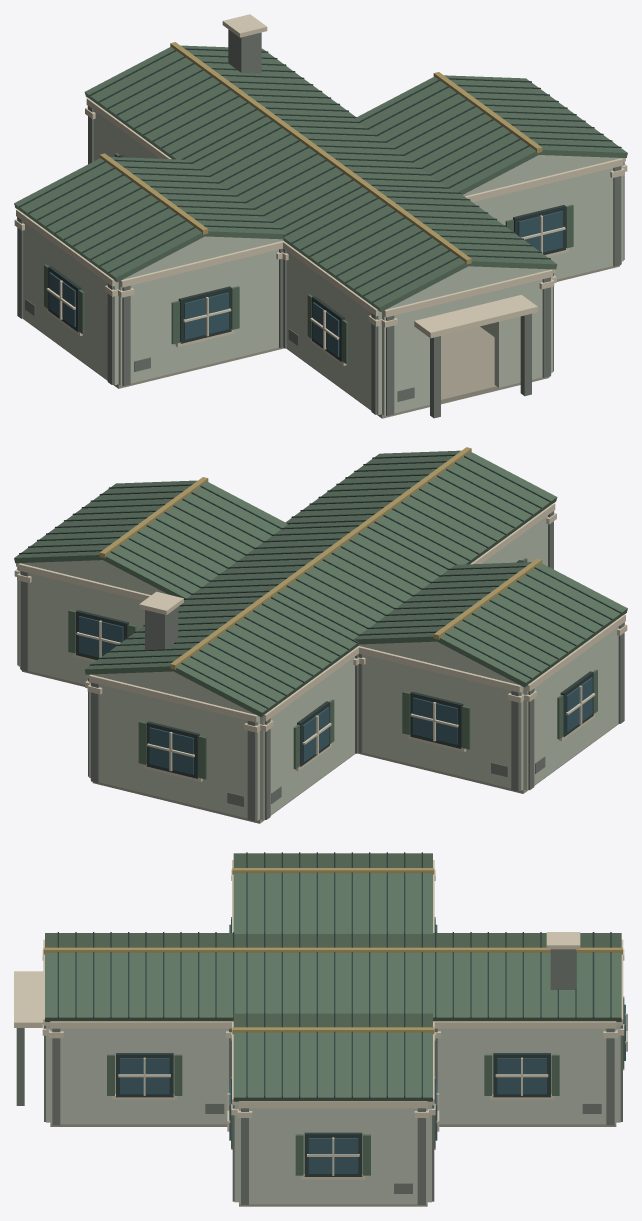
The model's file is FSA_ENV_Protected_05_GardenPavilion.glb.
3 views of the same model, one above another, from view 1: azimuth 30°, elevation 25°; view 2: azimuth 150°, elevation 25°; view 3: azimuth 270°, elevation 25° (orthographic). The views are drawn at different scales.
Visible parts, largest first — view 1: PitchedRoof_171, PitchedRoof_450, PitchedRoof_55, PitchedRoof_348, PitchedRoof_236, PitchedRoof_360, PitchedRoof_462, PitchedRoof_183, Wall_117, PitchedRoof_248, Wall_298, Wall_118 (+48 smaller); view 2: PitchedRoof_171, PitchedRoof_55, PitchedRoof_450, PitchedRoof_348, PitchedRoof_236, PitchedRoof_360, PitchedRoof_183, Wall_137, PitchedRoof_462, Wall_21, Wall_332, Wall_22 (+47 smaller); view 3: PitchedRoof_360, PitchedRoof_462, PitchedRoof_67, PitchedRoof_183, PitchedRoof_248, Wall_417, Wall_315, Wall_4, Wall_5, Wall_314, Wall_416, PitchedRoof_450 (+35 smaller).
Part boxes in pixels (x1,y1,x2,y2): PitchedRoof_171: [14, 158, 205, 282]; PitchedRoof_450: [283, 189, 468, 311]; PitchedRoof_55: [84, 47, 271, 162]; PitchedRoof_348: [354, 76, 539, 194]; PitchedRoof_236: [193, 121, 367, 233]; PitchedRoof_360: [444, 75, 627, 157]; PitchedRoof_462: [373, 186, 557, 269]; PitchedRoof_183: [110, 157, 286, 239]; Wall_117: [118, 273, 181, 385]; PitchedRoof_248: [277, 116, 453, 192]; Wall_298: [561, 166, 621, 278]; Wall_118: [227, 249, 278, 359]; PitchedRoof_171: [437, 563, 627, 687]; PitchedRoof_55: [173, 593, 358, 717]; PitchedRoof_450: [369, 452, 557, 568]; PitchedRoof_348: [102, 481, 287, 598]; PitchedRoof_236: [274, 524, 448, 638]; PitchedRoof_360: [14, 480, 197, 563]; PitchedRoof_183: [354, 562, 531, 644]; Wall_137: [460, 678, 523, 790]; PitchedRoof_462: [285, 450, 460, 522]; Wall_21: [196, 708, 259, 820]; Wall_332: [20, 571, 80, 683]; Wall_22: [90, 682, 151, 794]; PitchedRoof_360: [233, 1032, 432, 1101]; PitchedRoof_462: [45, 953, 244, 1021]; PitchedRoof_67: [423, 953, 621, 1021]; PitchedRoof_183: [233, 873, 432, 933]; PitchedRoof_248: [234, 953, 432, 1013]; Wall_417: [50, 1028, 118, 1124]; Wall_315: [239, 1108, 307, 1204]; Wall_4: [547, 1028, 616, 1124]; Wall_5: [437, 1028, 496, 1124]; Wall_314: [359, 1108, 427, 1204]; Wall_416: [170, 1028, 228, 1124]; PitchedRoof_450: [45, 933, 244, 947].
Size of the model in its own units: 21.86 by 6.9 by 22.78.
